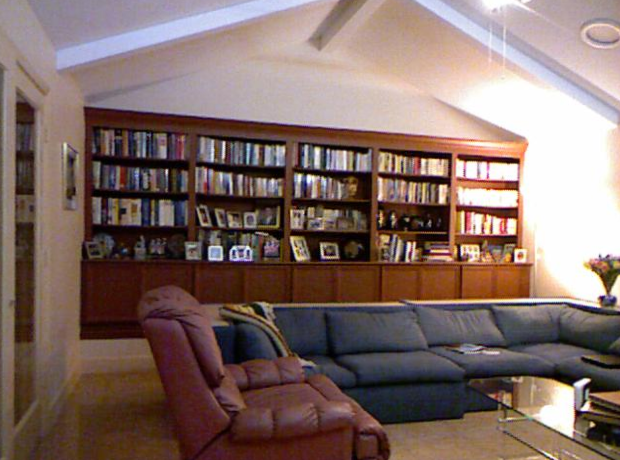cabinet: (89, 148, 517, 254)
couch: (147, 287, 391, 458), (401, 302, 617, 377)
table: (468, 377, 618, 458)
